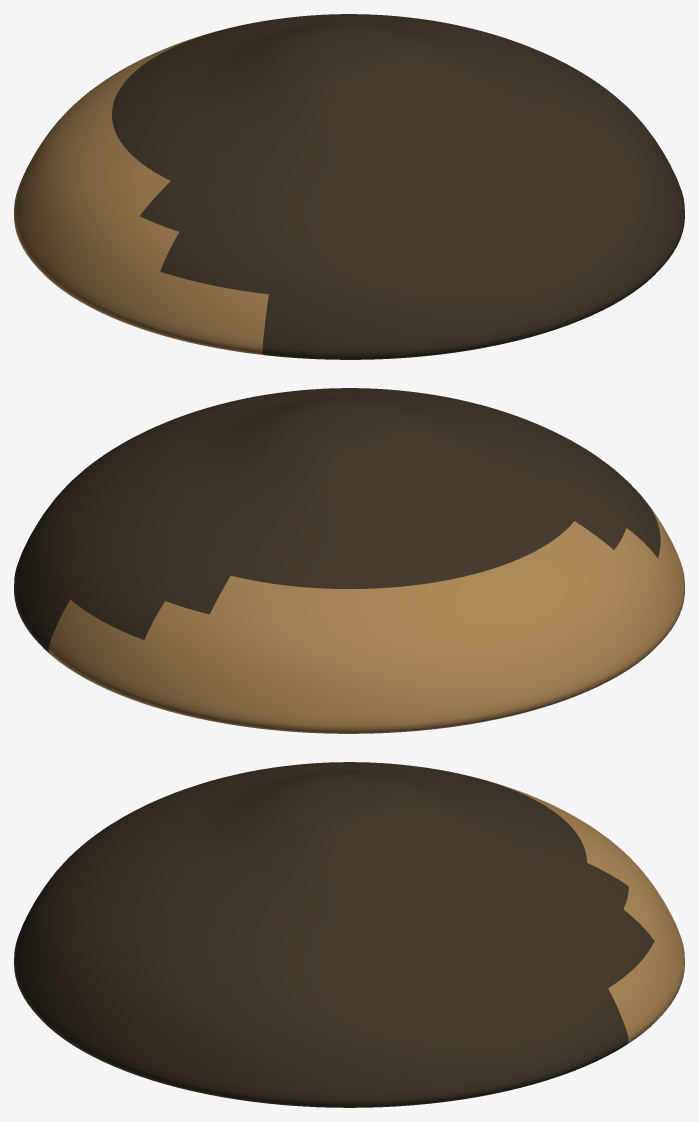
File: top.fbx
The picture shows the model from 3 angles, top to bottom: view 1: azimuth 30°, elevation 25°; view 2: azimuth 150°, elevation 25°; view 3: azimuth 270°, elevation 25°; orthographic projection.
Parts seen in each view (by area): view 1: Sphere.002; view 2: Sphere.002; view 3: Sphere.002.
Boxes of the visible parts, x1,y1,x2,y2 form: Sphere.002: [14, 14, 684, 359]; Sphere.002: [14, 388, 684, 733]; Sphere.002: [14, 762, 684, 1107].
Size of the model in its own units: 197 by 57.45 by 197.
